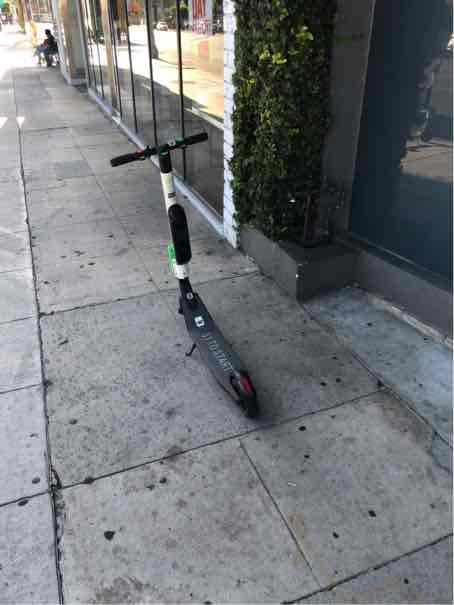scooter: (127, 112, 429, 270)
